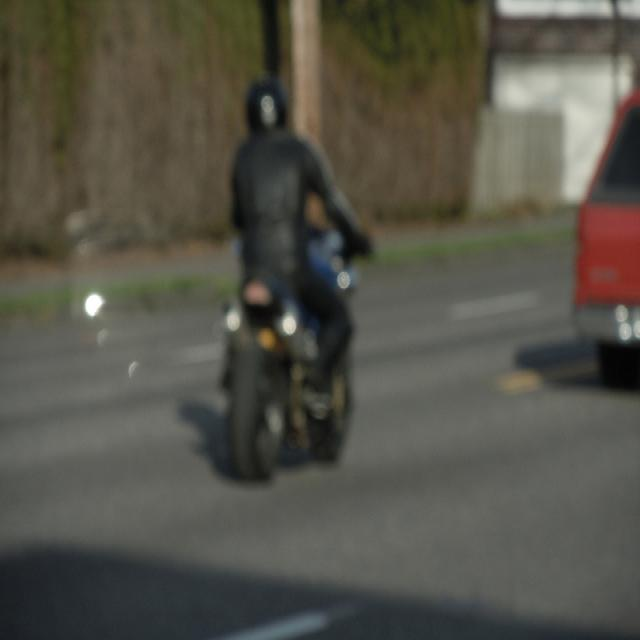motor: (225, 279, 360, 476)
